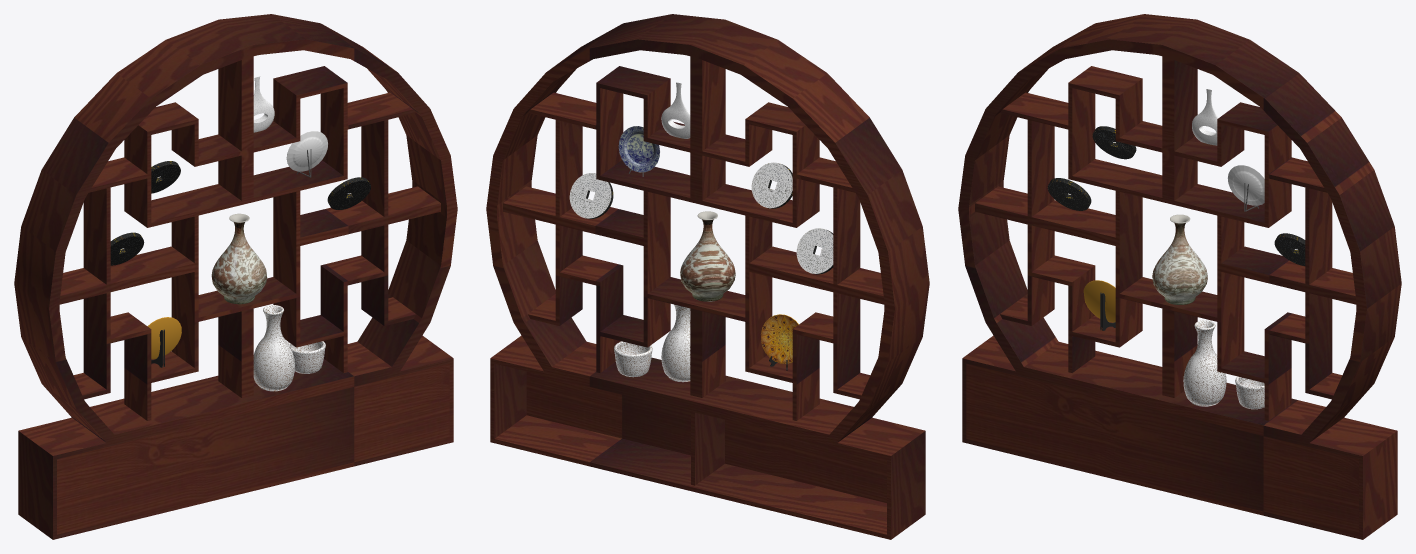
The model's file is chinese+bogu.dae.
3 views of the same model, side by side, from view 1: azimuth 30°, elevation 25°; view 2: azimuth 150°, elevation 25°; view 3: azimuth 330°, elevation 25° (orthographic).
Parts seen in each view (by area): view 1: group_0 (×11), Sake_-_Ochoko_and_Bottle_-_Japanese_Cuisine (×2), Component_9, Group_63 (×3), Plate, KARE_65351_Vase_Hole_Alu_Bottle___Vase_Hole_Alu_Bottle__; view 2: group_0 (×12), Group_63 (×3), Sake_-_Ochoko_and_Bottle_-_Japanese_Cuisine (×2), Component_9 (×2), group_3, Plate, KARE_65351_Vase_Hole_Alu_Bottle___Vase_Hole_Alu_Bottle__; view 3: group_0 (×10), Sake_-_Ochoko_and_Bottle_-_Japanese_Cuisine (×2), Component_9 (×2), Group_63 (×3), Plate, KARE_65351_Vase_Hole_Alu_Bottle___Vase_Hole_Alu_Bottle__.
Boxes of the visible parts, x1,y1,x2,y2 form: group_0 (×11): (14, 14, 457, 539); Sake_-_Ochoko_and_Bottle_-_Japanese_Cuisine (×2): (253, 305, 325, 391); Component_9: (211, 222, 265, 304); Group_63 (×3): (110, 161, 370, 265); Plate: (147, 317, 181, 359); KARE_65351_Vase_Hole_Alu_Bottle___Vase_Hole_Alu_Bottle__: (253, 76, 274, 132); group_0 (×12): (486, 14, 929, 539); Group_63 (×3): (569, 162, 833, 273); Sake_-_Ochoko_and_Bottle_-_Japanese_Cuisine (×2): (614, 304, 690, 382); Component_9 (×2): (680, 219, 735, 301); group_3: (618, 126, 659, 172); Plate: (761, 315, 798, 363); KARE_65351_Vase_Hole_Alu_Bottle___Vase_Hole_Alu_Bottle__: (661, 82, 690, 138); group_0 (×10): (958, 14, 1401, 539); Sake_-_Ochoko_and_Bottle_-_Japanese_Cuisine (×2): (1183, 320, 1264, 409); Component_9 (×2): (1152, 223, 1207, 304); Group_63 (×3): (1047, 126, 1305, 266); Plate: (1083, 280, 1115, 322); KARE_65351_Vase_Hole_Alu_Bottle___Vase_Hole_Alu_Bottle__: (1192, 89, 1218, 145).
Size of the model in its own units: 80.33 by 11.81 by 83.75.
